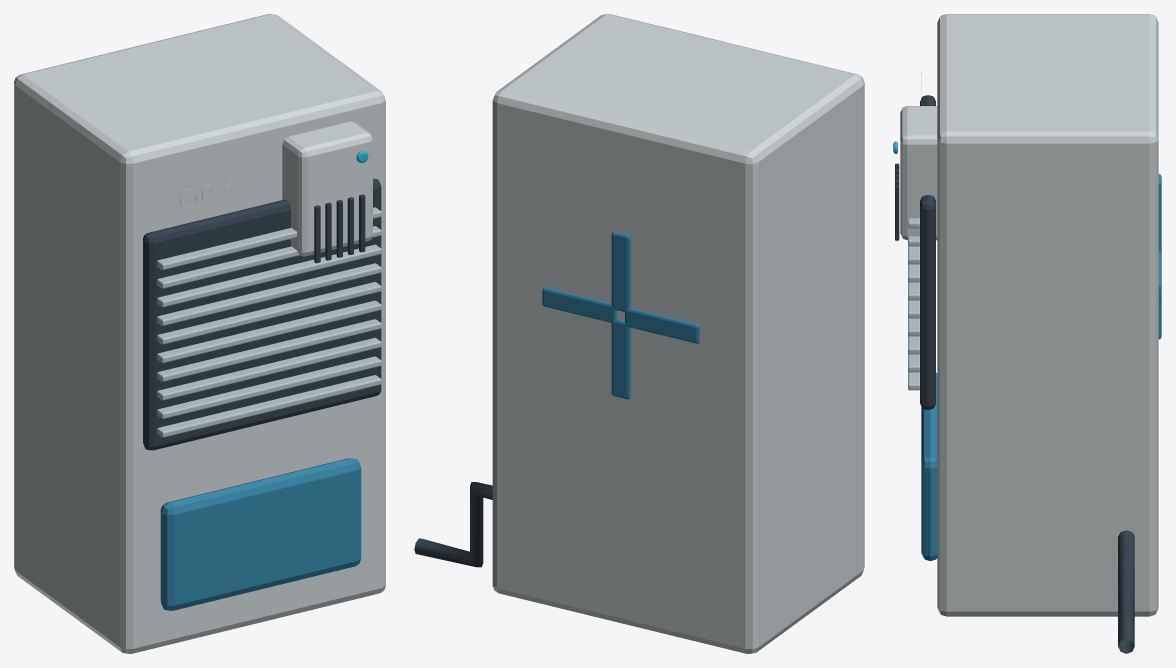
The model's file is warehouseDryer.glb.
The picture shows the model from 3 angles, left to right: view 1: azimuth 30°, elevation 25°; view 2: azimuth 150°, elevation 25°; view 3: azimuth 270°, elevation 25°; orthographic projection. The views are drawn at different scales.
Visible parts, largest first — view 1: Dehumidifier chassis, Intake grille frame, Intake louvre, Condensate tank, Humidity probe enclosure, Humidity probe ventilation slot, Dryer identifier; view 2: Dehumidifier chassis, Drain hose, Dryer outlet blade.001, Dryer outlet blade.003, Dryer outlet blade.002, Dryer outlet blade; view 3: Dehumidifier chassis, Humidity probe enclosure, Intake grille frame, Condensate tank, Drain hose, Intake louvre.
Boxes of the visible parts, box(x1,y1,x2,y2) form: Dehumidifier chassis: box(14, 14, 385, 653); Intake grille frame: box(143, 178, 381, 450); Intake louvre: box(157, 207, 381, 437); Condensate tank: box(160, 458, 361, 610); Humidity probe enclosure: box(282, 121, 372, 256); Humidity probe ventilation slot: box(314, 194, 365, 263); Dryer identifier: box(180, 178, 235, 212); Dehumidifier chassis: box(492, 14, 864, 653); Drain hose: box(414, 482, 492, 567); Dryer outlet blade.001: box(611, 231, 630, 311); Dryer outlet blade.003: box(611, 318, 630, 399); Dryer outlet blade.002: box(625, 308, 699, 343); Dryer outlet blade: box(542, 287, 617, 322); Dehumidifier chassis: box(937, 14, 1158, 616); Humidity probe enclosure: box(900, 106, 937, 240); Intake grille frame: box(920, 95, 935, 409); Condensate tank: box(921, 372, 937, 561); Drain hose: box(1118, 530, 1134, 653); Intake louvre: box(908, 218, 919, 390).
Size of the model in its own units: 0.85 by 1.16 by 0.581.
